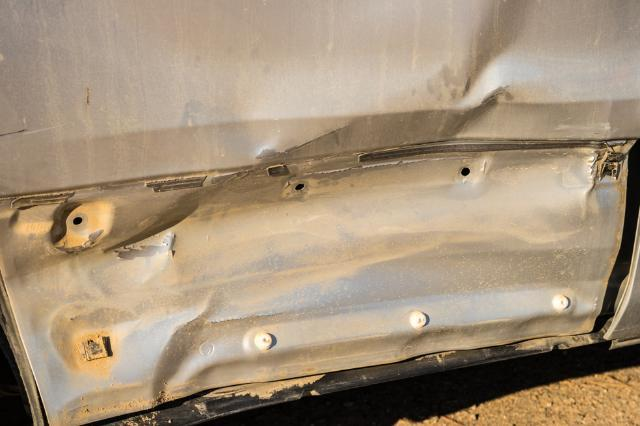Door: (6, 0, 640, 411)
